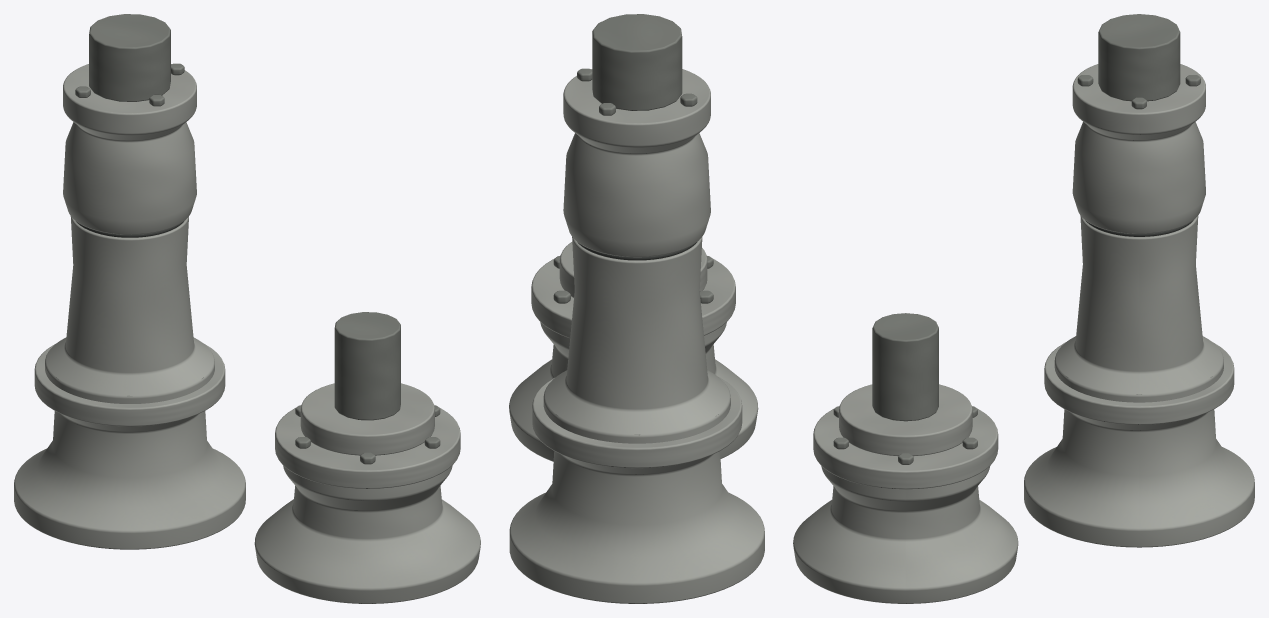
The model's file is brake_valves_photo_refined.glb.
The picture shows the model from 3 angles, left to right: view 1: azimuth 30°, elevation 25°; view 2: azimuth 150°, elevation 25°; view 3: azimuth 270°, elevation 25°; orthographic projection. The views are drawn at different scales.
Visible parts, largest first — view 1: Tall_Lower_Casting, Short_Lower_Casting, Tall_Upper_Casting, Short_Flange, Short_Exposed_Spindle, Tall_Exposed_Spindle, Short_Cover, Tall_Lower_Flange; view 2: Tall_Lower_Casting, Tall_Upper_Casting, Tall_Exposed_Spindle, Tall_Lower_Flange, Short_Lower_Casting, Short_Flange, Short_Cover, Tall_Middle_Seam; view 3: Tall_Lower_Casting, Short_Lower_Casting, Tall_Upper_Casting, Short_Flange, Short_Exposed_Spindle, Tall_Exposed_Spindle, Short_Cover, Tall_Lower_Flange.
Part boxes in pixels (x1=…): Tall_Lower_Casting: x1=14, y1=216, x2=245, y2=549; Short_Lower_Casting: x1=254, y1=465, x2=480, y2=603; Tall_Upper_Casting: x1=63, y1=64, x2=196, y2=234; Short_Flange: x1=275, y1=408, x2=460, y2=488; Short_Exposed_Spindle: x1=334, y1=312, x2=400, y2=420; Tall_Exposed_Spindle: x1=89, y1=14, x2=170, y2=101; Short_Cover: x1=300, y1=383, x2=434, y2=455; Tall_Lower_Flange: x1=34, y1=344, x2=225, y2=426; Tall_Lower_Casting: x1=509, y1=237, x2=764, y2=603; Tall_Upper_Casting: x1=563, y1=69, x2=710, y2=257; Tall_Exposed_Spindle: x1=592, y1=14, x2=682, y2=110; Tall_Lower_Flange: x1=532, y1=377, x2=742, y2=468; Short_Lower_Casting: x1=509, y1=322, x2=758, y2=461; Short_Flange: x1=531, y1=259, x2=735, y2=337; Short_Cover: x1=559, y1=242, x2=707, y2=297; Tall_Middle_Seam: x1=577, y1=242, x2=696, y2=260; Tall_Lower_Casting: x1=1024, y1=215, x2=1254, y2=547; Short_Lower_Casting: x1=793, y1=466, x2=1018, y2=603; Tall_Upper_Casting: x1=1072, y1=64, x2=1205, y2=233; Short_Flange: x1=813, y1=408, x2=998, y2=489; Short_Exposed_Spindle: x1=872, y1=313, x2=938, y2=421; Tall_Exposed_Spindle: x1=1098, y1=14, x2=1180, y2=101; Short_Cover: x1=839, y1=384, x2=972, y2=456; Tall_Lower_Flange: x1=1044, y1=342, x2=1234, y2=424.
Size of the model in its own units: 0.1429 by 0.2015 by 0.1799.
3 materials, 2 textured.
